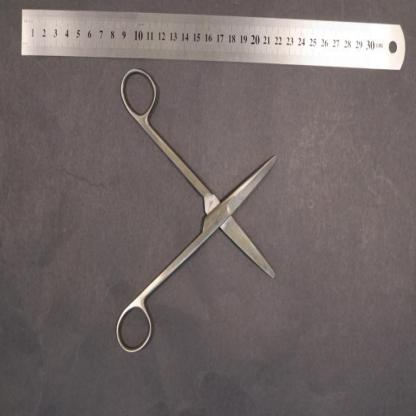Curved Mayo Scissors: (115, 66, 279, 355)
